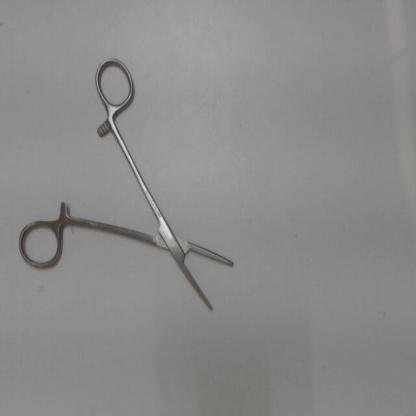Mayo Needle Holder: (15, 50, 248, 328)
